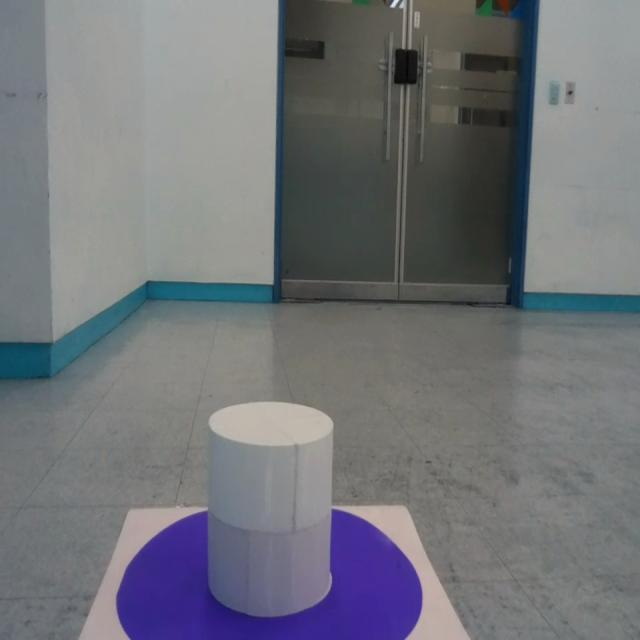cylinder: (206, 401, 335, 616)
